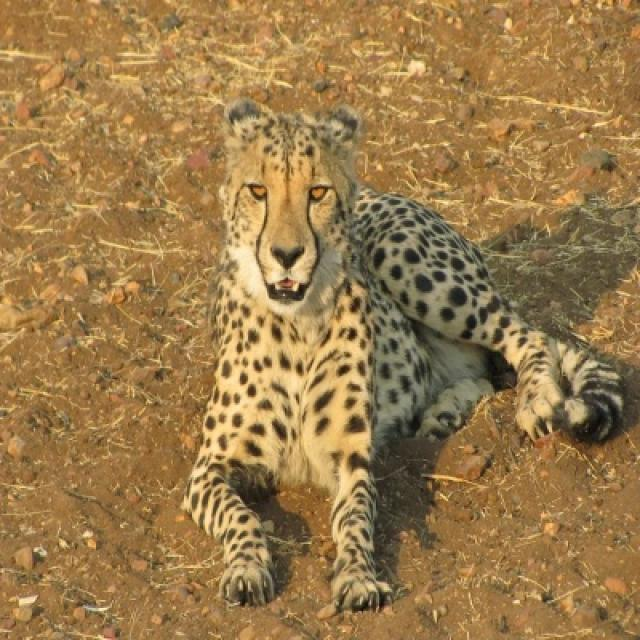Cheetah: (181, 98, 629, 614)
